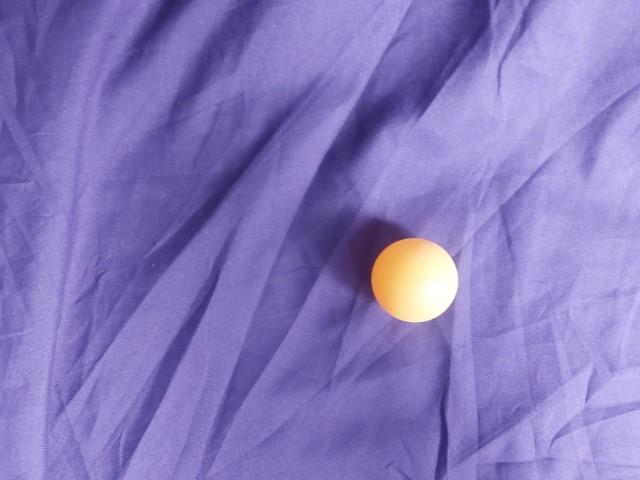oball: (175, 150, 275, 247)
